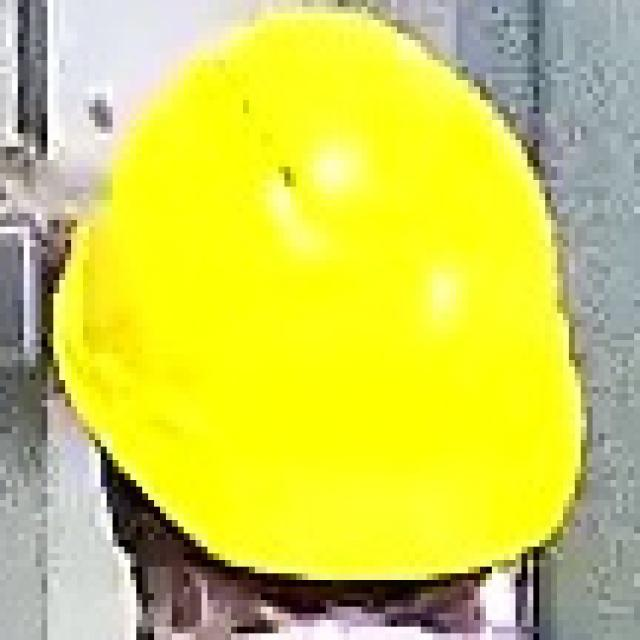yellow helmet: (51, 9, 596, 589)
